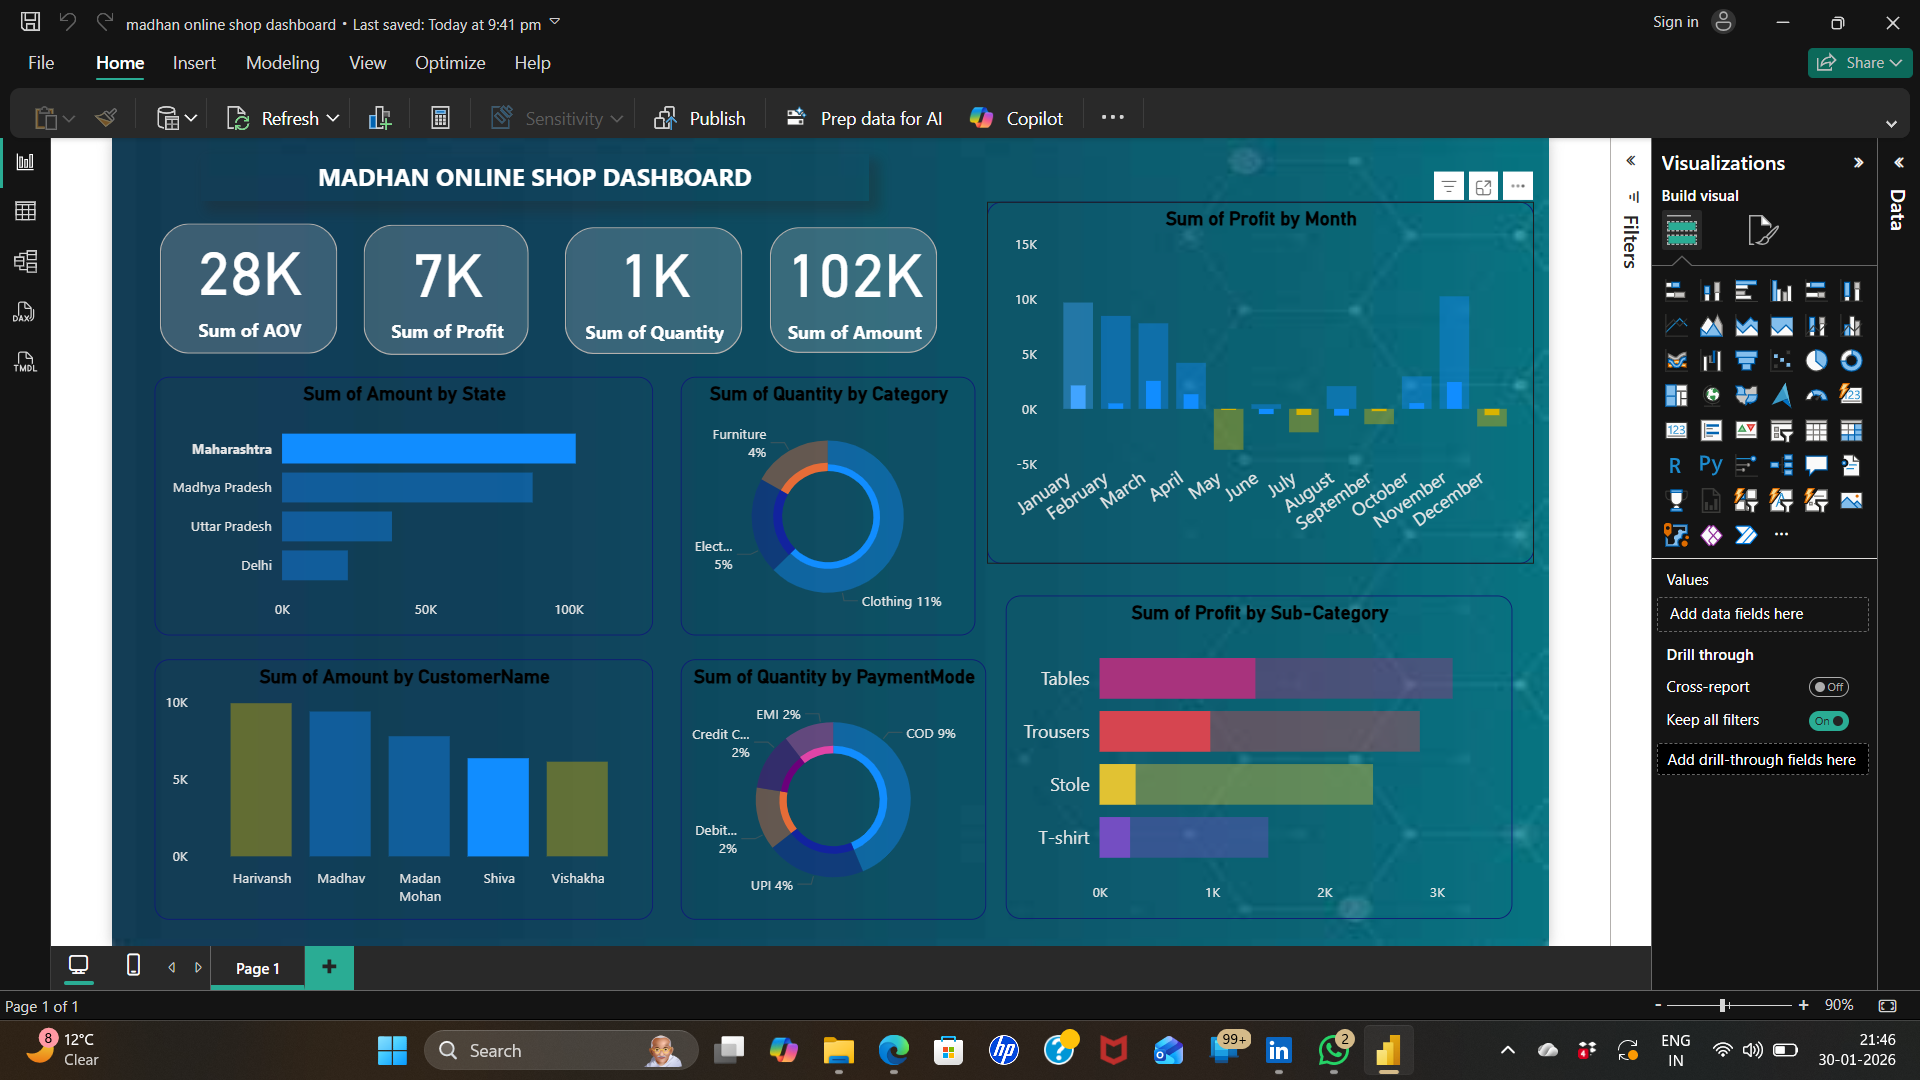

The page's visual inventory and layout, read from the dashboard file:
{"tool":"powerbi","page":{"name":"Page 1","canvas":[1280,720],"ordinal":0},"visuals":[{"type":"columnChart","fields":{"Y":["Sum(Details.Profit)"],"Category":["Orders.Order Date.Variation.Date Hierarchy.Month"]},"box":[779.1,56.4,487.1,322.7],"z":0},{"type":"barChart","fields":{"Y":["Sum(Details.Profit)"],"Category":["Details.Sub-Category"]},"box":[796.3,407.4,451.5,288.3],"z":1000},{"type":"donutChart","fields":{"Category":["Details.Category"],"Y":["Sum(Details.Quantity)"]},"box":[506.8,212.3,262.6,230.7],"z":2000},{"type":"donutChart","fields":{"Y":["Sum(Details.Quantity)"],"Category":["Details.PaymentMode"]},"box":[506.8,463.8,272.4,231.9],"z":3000},{"type":"cardVisual","fields":{"Data":["Sum(Details.Amount)"]},"box":[581.6,74.8,159.5,122.7],"z":4000},{"type":"cardVisual","fields":{"Data":["Sum(Details.Profit)"]},"box":[219.6,72.4,157.1,126.4],"z":5000},{"type":"cardVisual","fields":{"Data":["Sum(Details.Quantity)"]},"box":[398.8,74.8,168.1,123.9],"z":6000},{"type":"cardVisual","fields":{"Data":["Sum(Details.AOV)"]},"box":[38,71.2,168.1,126.4],"z":7000},{"type":"barChart","fields":{"Category":["Orders.State"],"Y":["Sum(Details.Amount)"]},"box":[38,212.3,444.2,230.7],"z":8000},{"type":"columnChart","fields":{"Category":["Orders.CustomerName"],"Y":["Sum(Details.Amount)"]},"box":[38,463.8,444.2,231.9],"z":8001},{"type":"textbox","box":[78.5,14.7,595.1,41.7],"z":8002}]}

Visuals, with their boxes on the page's 1280x720 design canvas (x1, y1, x2, y2). These are canvas units, not pixel positions in the 1920x1080 screenshot, which may show the page scaled, cropped or inside an application window:
columnChart - Sum(Details.Profit) x Orders.Order Date.Variation.Date Hierarchy.Month: (779,56,1266,379)
barChart - Sum(Details.Profit) x Details.Sub-Category: (796,407,1248,696)
donutChart - Details.Category x Sum(Details.Quantity): (507,212,769,443)
donutChart - Sum(Details.Quantity) x Details.PaymentMode: (507,464,779,696)
cardVisual - Sum(Details.Amount): (582,75,741,198)
cardVisual - Sum(Details.Profit): (220,72,377,199)
cardVisual - Sum(Details.Quantity): (399,75,567,199)
cardVisual - Sum(Details.AOV): (38,71,206,198)
barChart - Orders.State x Sum(Details.Amount): (38,212,482,443)
columnChart - Orders.CustomerName x Sum(Details.Amount): (38,464,482,696)
textbox: (78,15,674,56)
